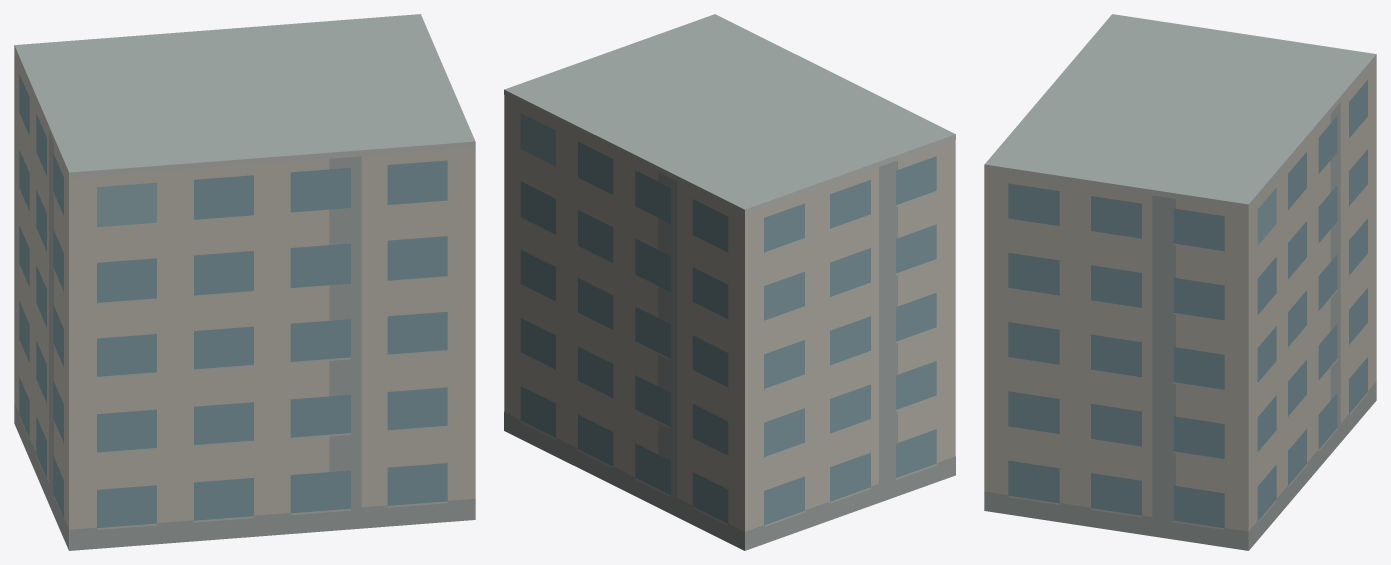
The model's file is residential-d22fcb33-18f2-46eb-abed-cb94866577d1.glb.
3 views of the same model, side by side, from view 1: azimuth 30°, elevation 25°; view 2: azimuth 150°, elevation 25°; view 3: azimuth 270°, elevation 25° (orthographic). The views are drawn at different scales.
Parts seen in each view (by area): view 1: residential-d22fcb33-18f2-46eb-abed-cb94866577d1.tmp; view 2: residential-d22fcb33-18f2-46eb-abed-cb94866577d1.tmp; view 3: residential-d22fcb33-18f2-46eb-abed-cb94866577d1.tmp.
Part boxes in pixels (x1=…): residential-d22fcb33-18f2-46eb-abed-cb94866577d1.tmp: x1=14, y1=14, x2=475, y2=550; residential-d22fcb33-18f2-46eb-abed-cb94866577d1.tmp: x1=504, y1=14, x2=955, y2=550; residential-d22fcb33-18f2-46eb-abed-cb94866577d1.tmp: x1=984, y1=14, x2=1376, y2=550.
Bounding box in the file's own units: 17.99 × 15.25 × 15.65.
